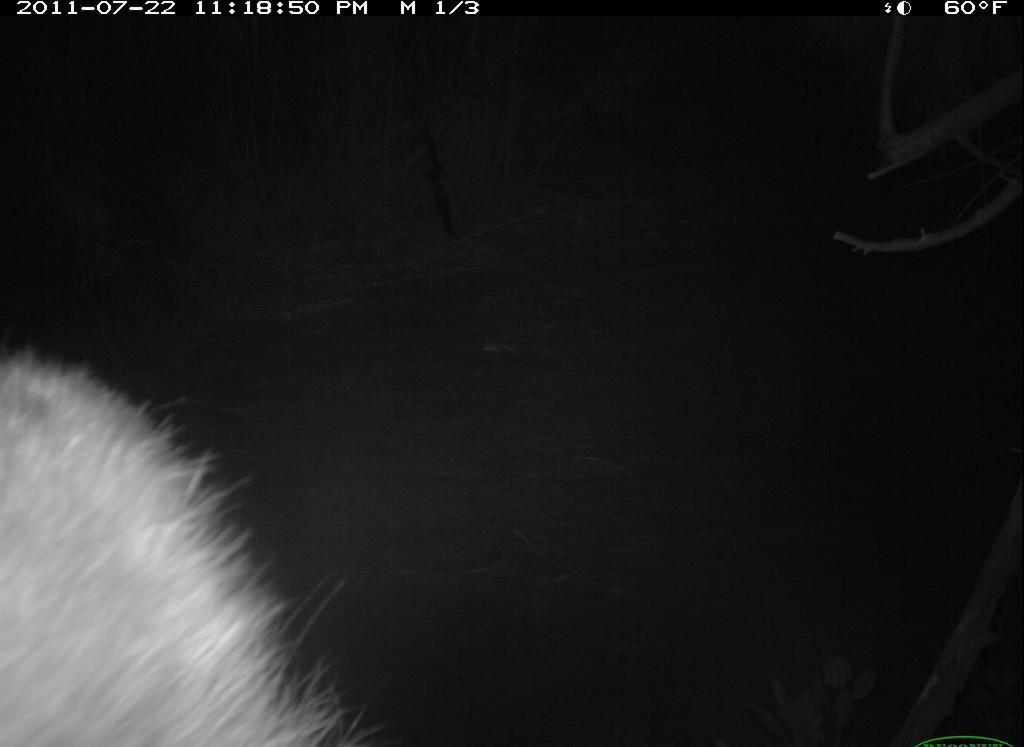raccoon: (3, 341, 401, 745)
